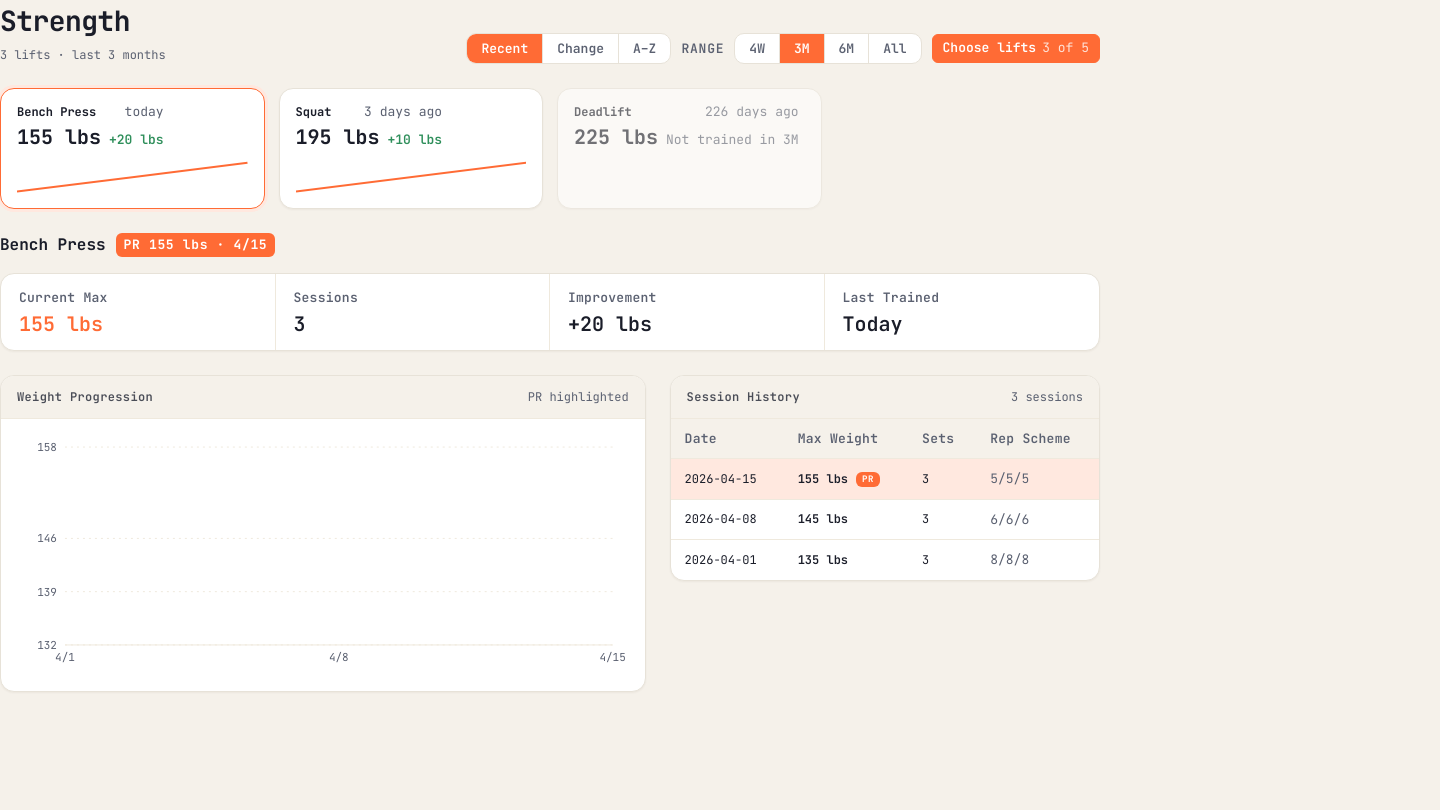
Test case: Strength page — Choose lifts dialog › labels the range filter and rows, and drops the range filter for All
Expected: the element with test id "lift-grid" is shown, [0,88,822,209]
Click the button "Choose lifts 3 of 5": (1016, 48) [932,34,1100,63]
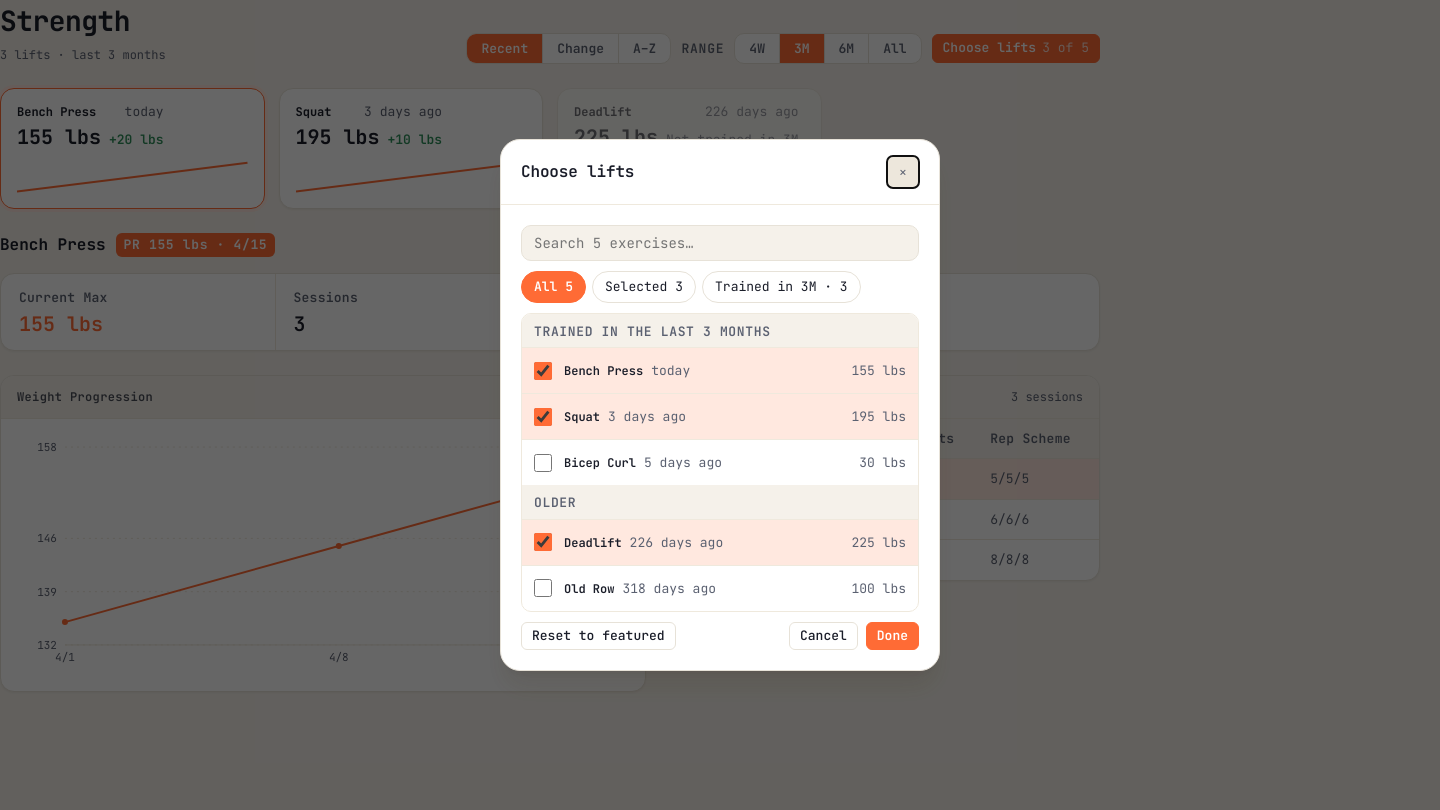
Now the button "Trained in 3M · 3" is shown, box [702,271,861,303]
Click the button "Cancel": (823, 636) [789,622,858,650]
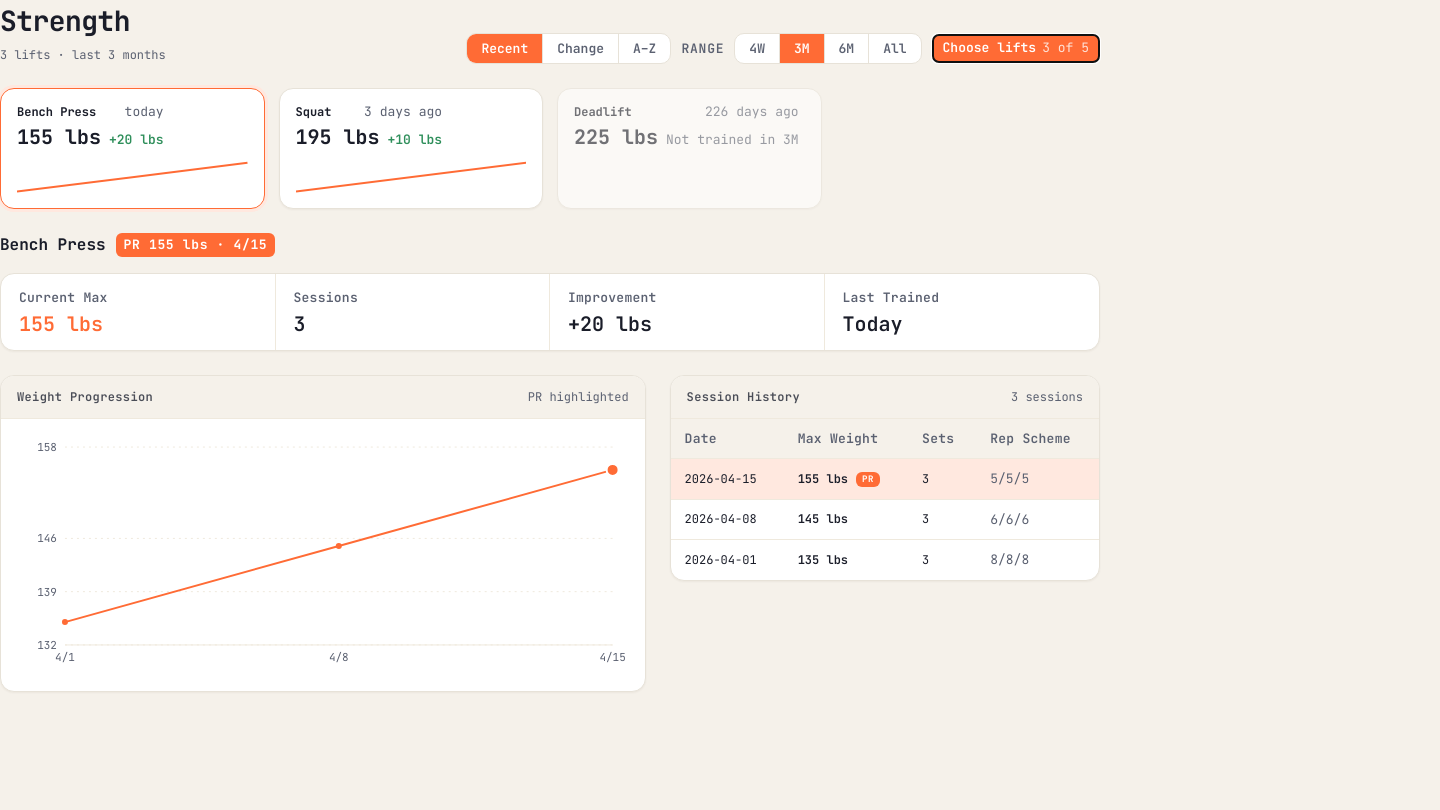
Click the button "All": (895, 48) [869,34,921,63]
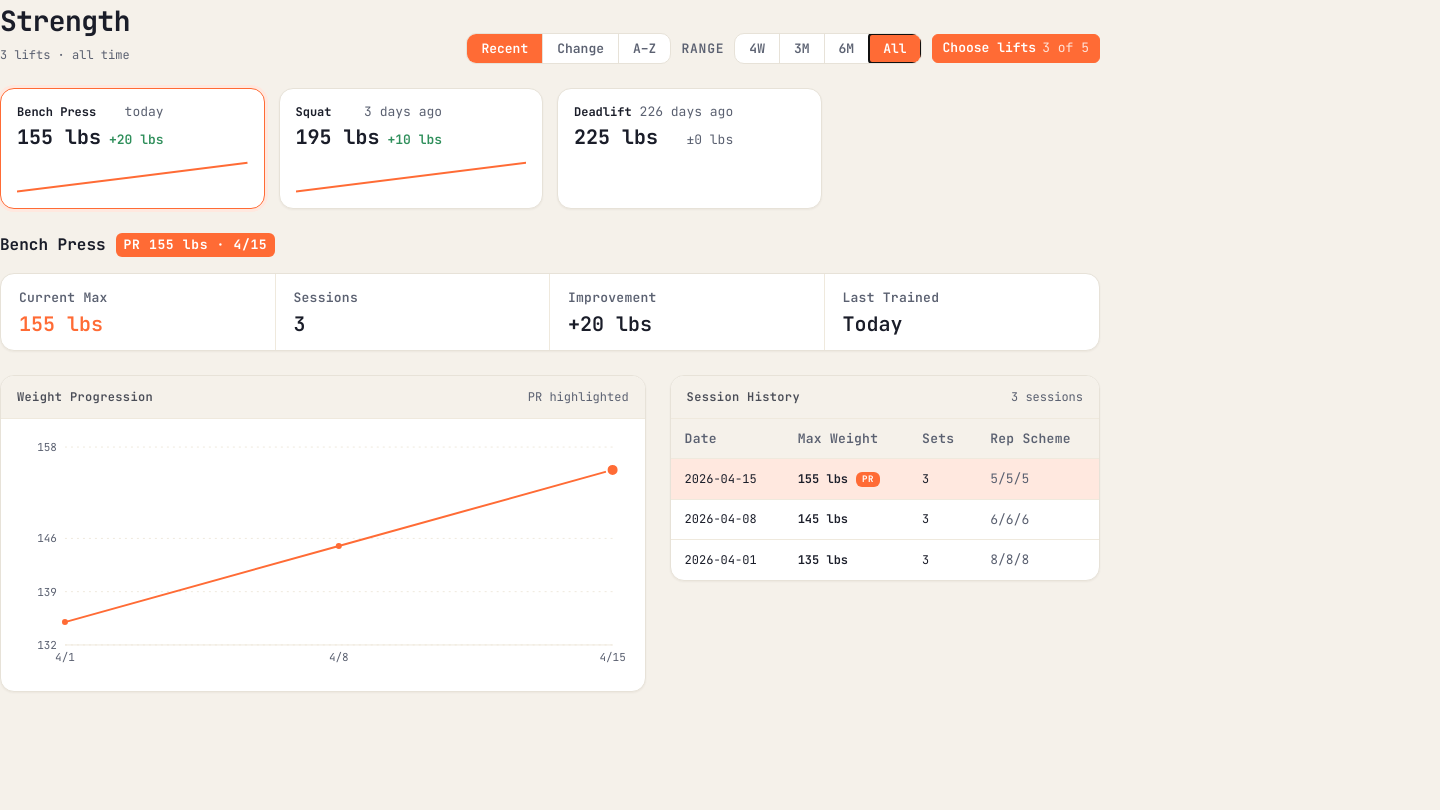
Click the button "Choose lifts 3 of 5": (1016, 48) [932,34,1100,63]
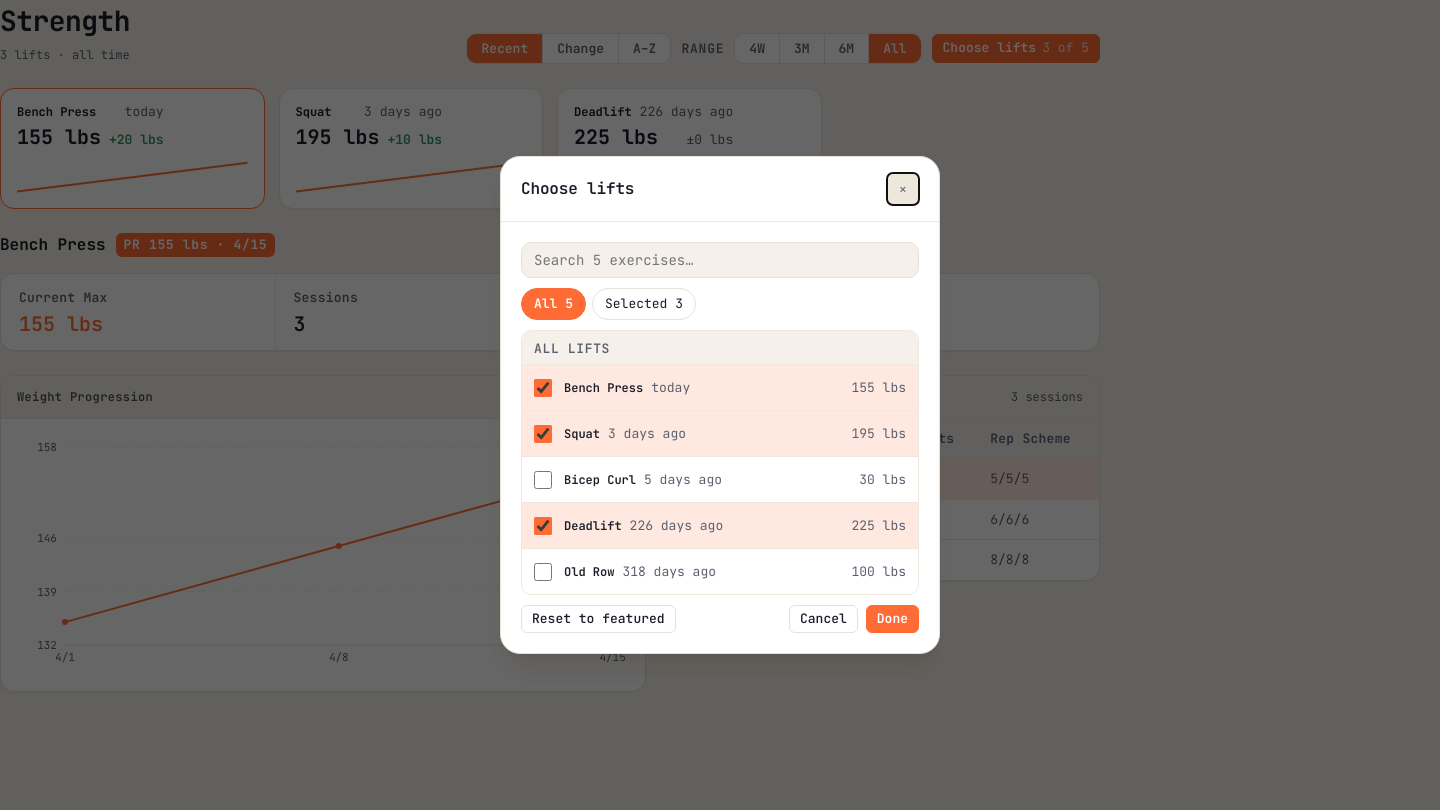
Expected: the button "trained in" is not shown
Now the element "All lifts" is shown, box [522,331,918,594]
